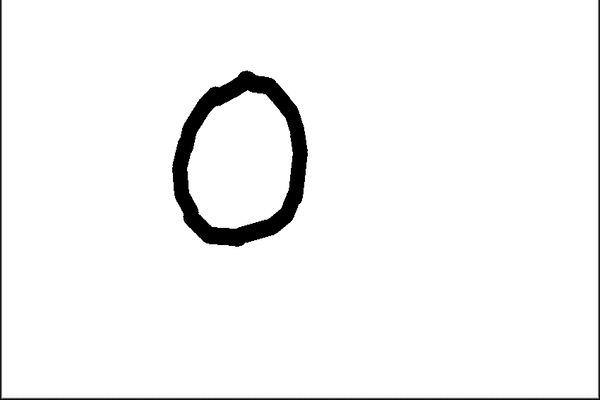O: (146, 54, 328, 258)
